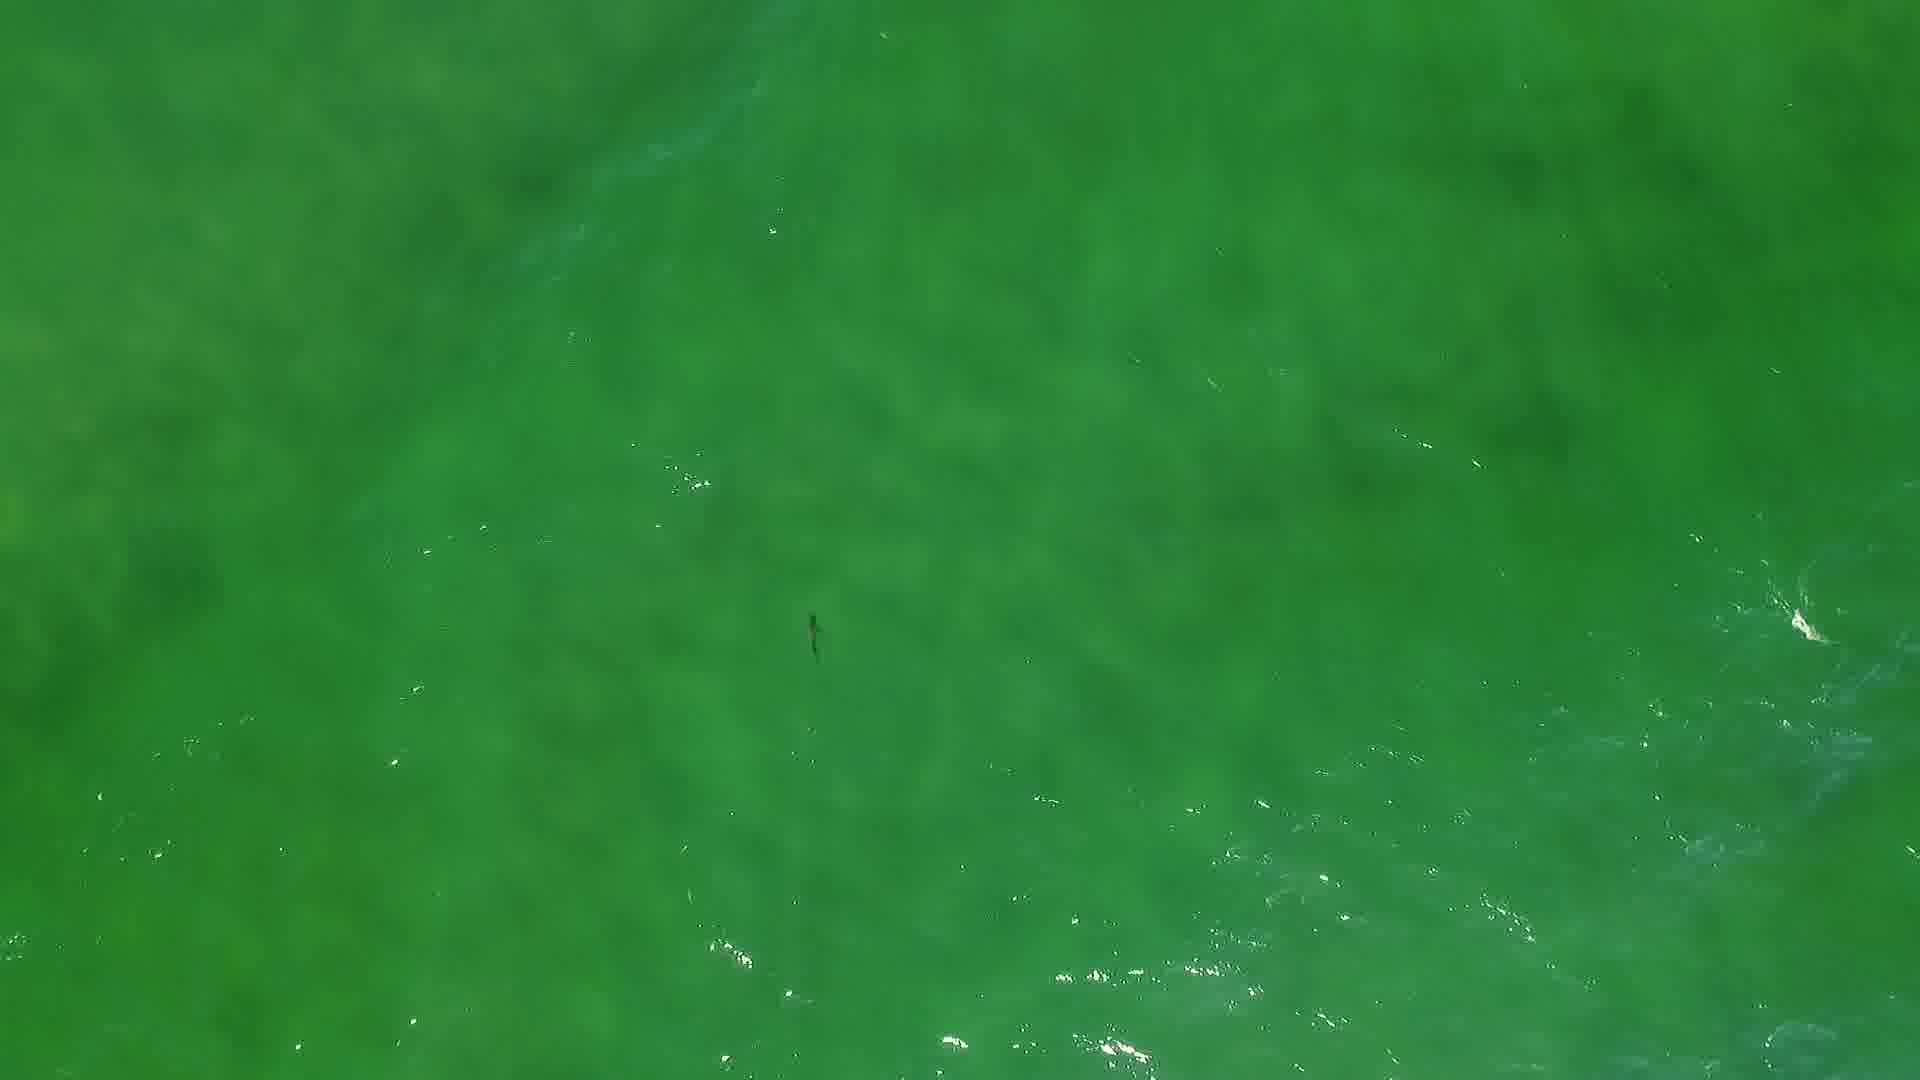shark: (798, 611, 829, 666)
